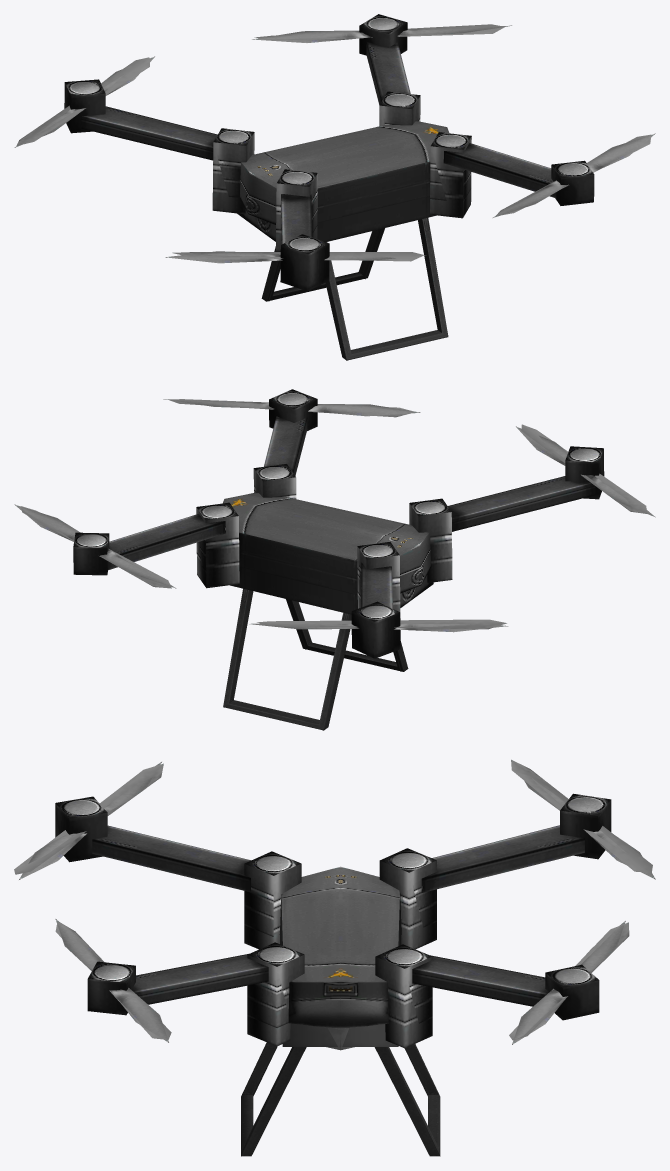
Rendered from xuanyiwurenji2.glb.
3 views of the same model, one above another, from view 1: azimuth 30°, elevation 25°; view 2: azimuth 150°, elevation 25°; view 3: azimuth 270°, elevation 25° (orthographic). The views are drawn at different scales.
Visible parts, largest first — view 1: Object_2; view 2: Object_2; view 3: Object_2.
Part boxes in pixels (<box>): Object_2: <box>14,14,655,360</box>; Object_2: <box>14,389,655,730</box>; Object_2: <box>14,759,655,1156</box>.
Bounding box in the file's own units: 8.93 × 3.33 × 8.49.
1 material, 1 textured.
